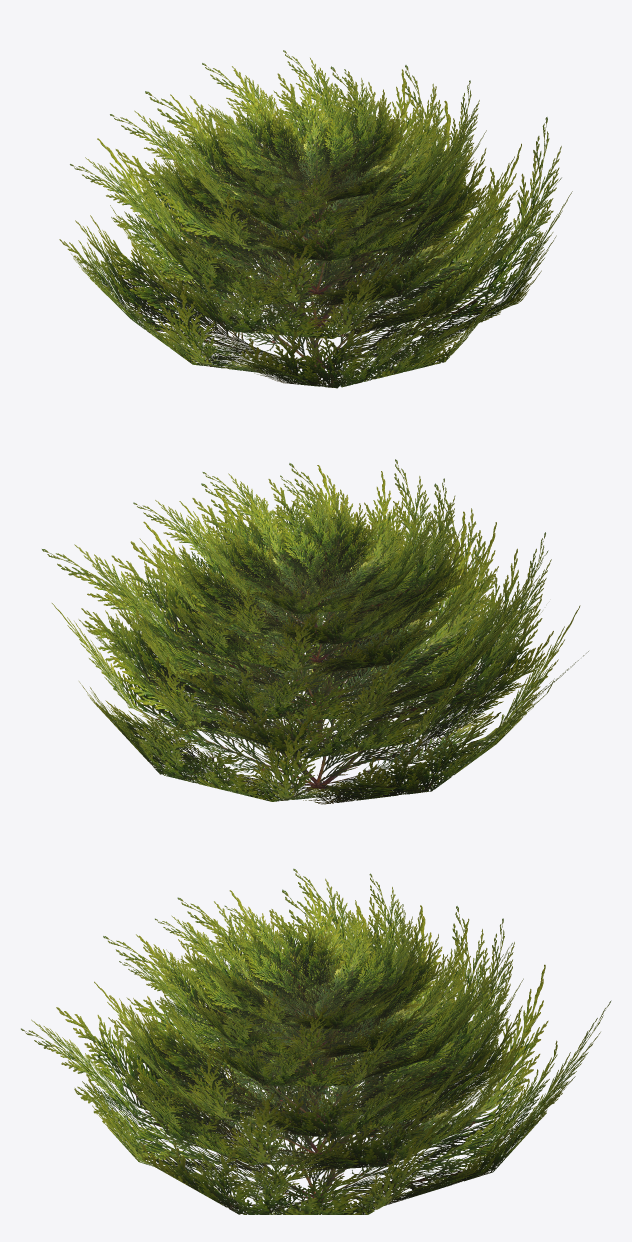
File: bush-2.FBX
3 renders of one model, top to bottom at view 1: azimuth 30°, elevation 25°; view 2: azimuth 150°, elevation 25°; view 3: azimuth 270°, elevation 25°, orthographic. The views are drawn at different scales.
Parts seen in each view (by area): view 1: bush2m; view 2: bush2m; view 3: bush2m.
Part boxes in pixels (<box>): bush2m: <box>59,50,572,388</box>; bush2m: <box>42,459,588,804</box>; bush2m: <box>21,868,611,1214</box>.
Size of the model in its own units: 62.03 by 32.31 by 62.03.
1 material, 1 textured.
